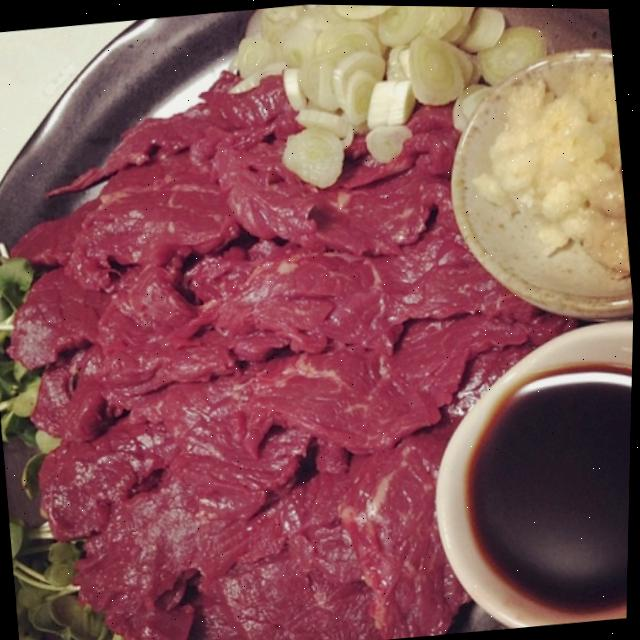刺身生食: (0, 3, 634, 640)
